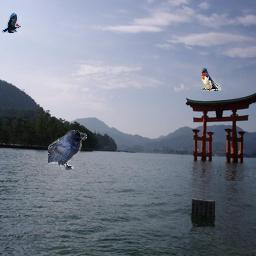Crow: (48, 130, 87, 170)
Swallow: (201, 68, 221, 91)
Woodpecker: (2, 13, 21, 33)
